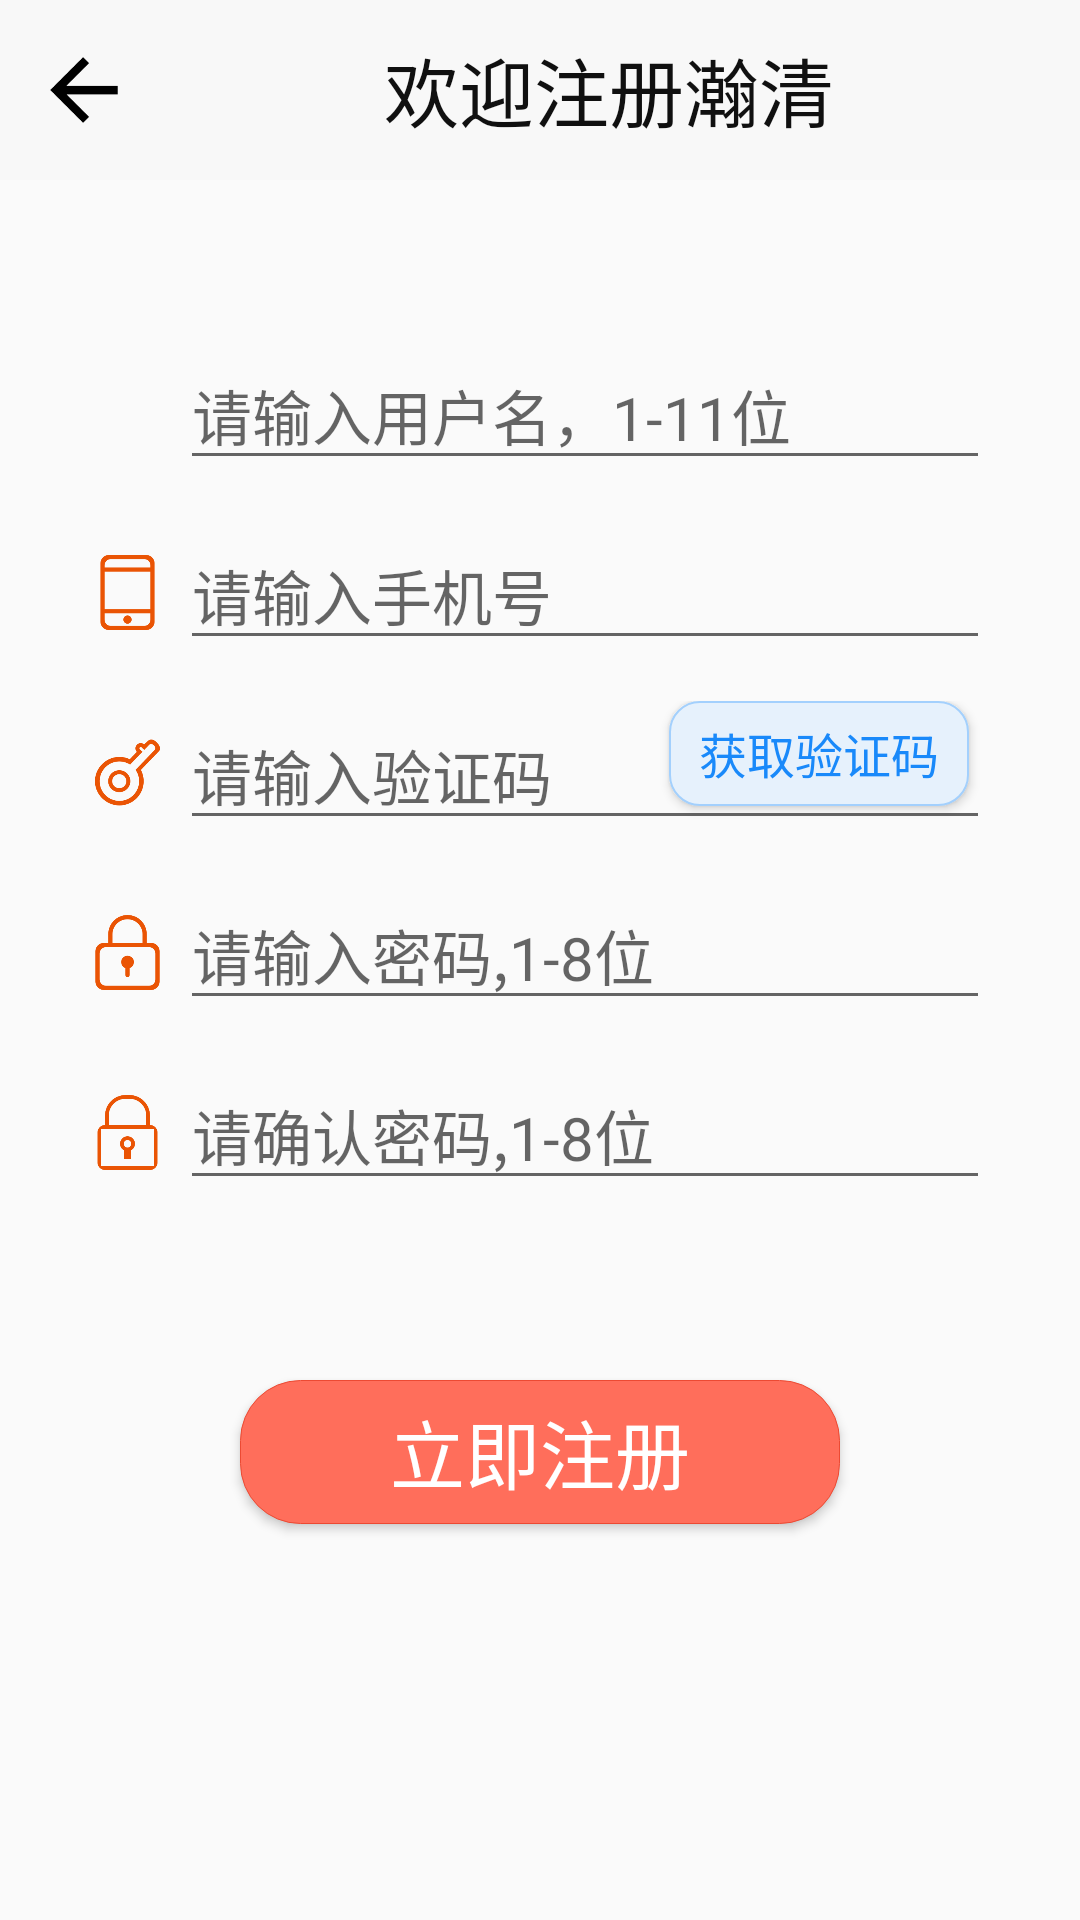

Where icons sit on this 1080*1920 app screen, as [x1=x1, y1=y1, x2=x2, y2=y2]:
back: [x1=50, y1=57, x2=118, y2=123]
register pw: [x1=95, y1=915, x2=160, y2=990]
register pw re: [x1=97, y1=1095, x2=158, y2=1170]
register tel: [x1=100, y1=555, x2=155, y2=630]
verfication code: [x1=95, y1=739, x2=160, y2=806]
